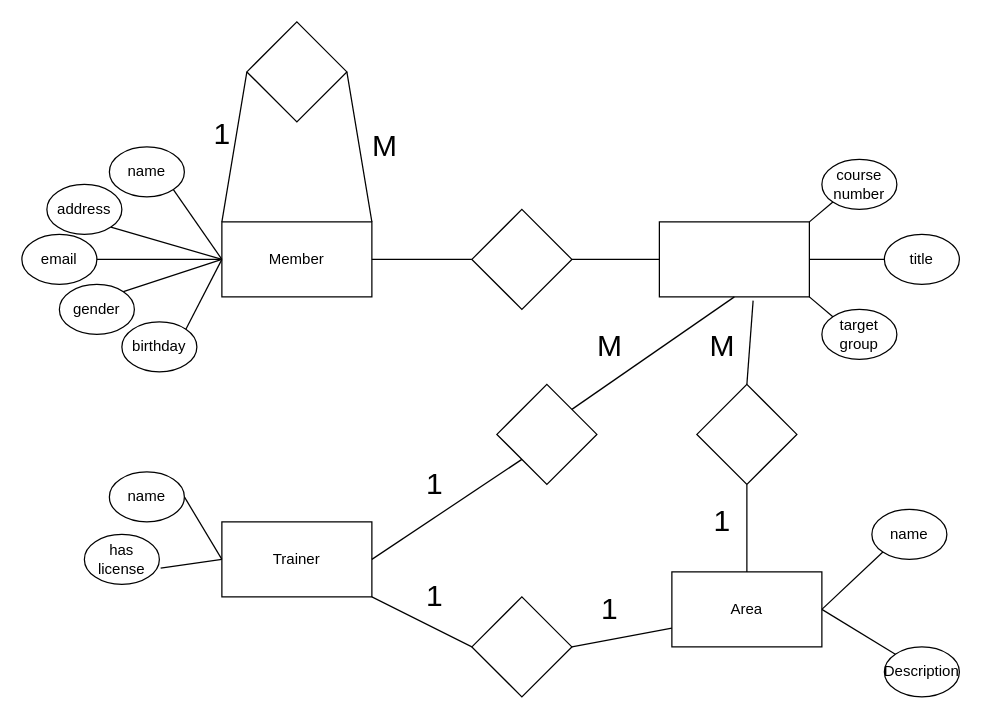
Some shapes in this 981 by 719 pixel diagram are drawn without their labels. The shapes that lost their labels are listed below. From the top down, each one's centre as x and y in pixels, then its label:
point 296,71: Parent of a Minor
point 521,258: Enrolled
point 733,259: Course
point 546,433: Teaches
point 746,433: Belongs to
point 521,646: Heads
